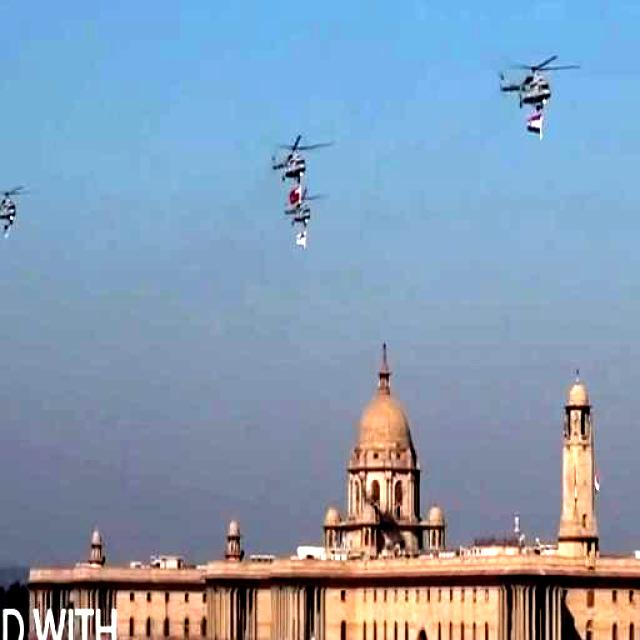drone: (498, 54, 582, 114), (270, 132, 336, 185), (0, 184, 32, 239), (282, 195, 329, 229)
